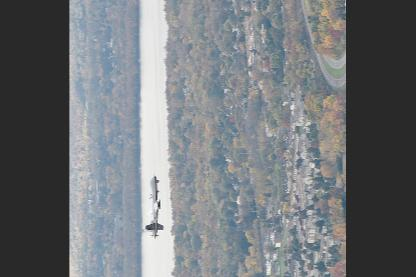MQ9: (141, 170, 164, 237)
